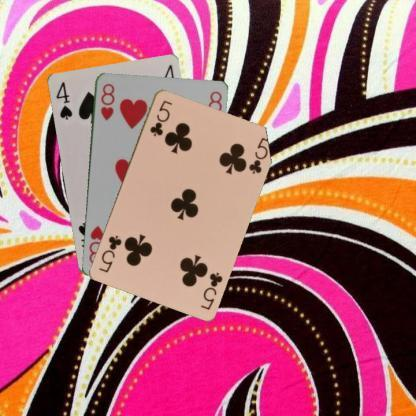4s: (52, 78, 74, 121)
5c: (198, 269, 224, 311), (147, 97, 173, 138)
8h: (97, 80, 115, 122)
